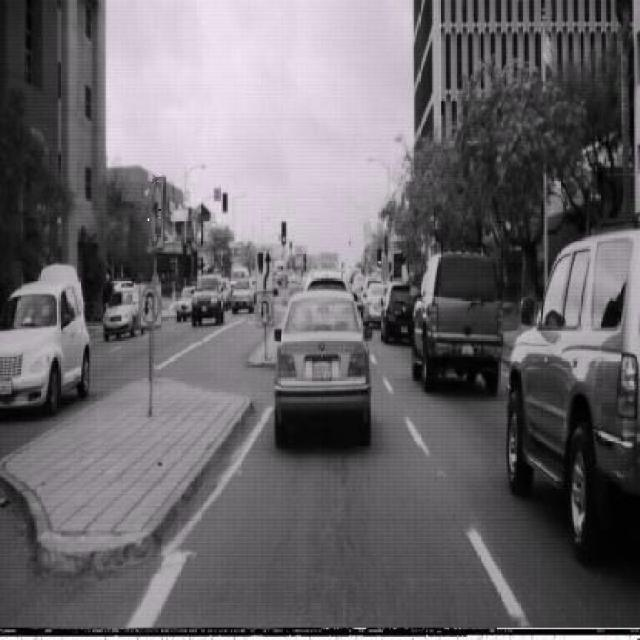noLeftTurn: (148, 178, 164, 252)
